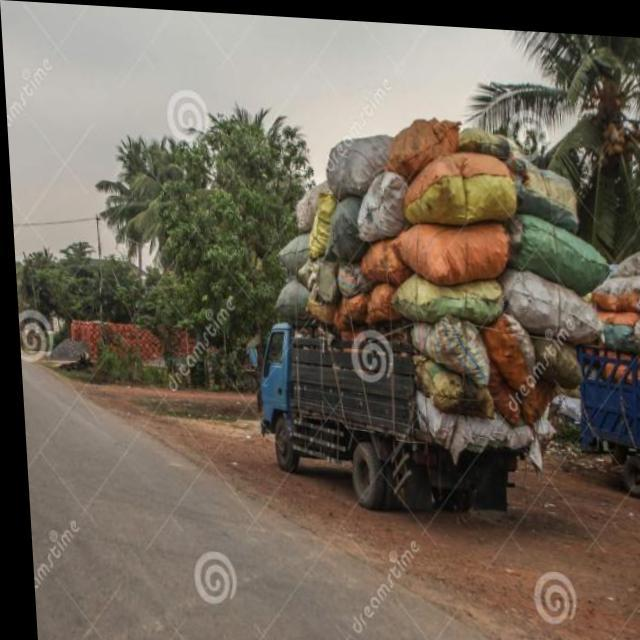uncovered: (252, 100, 611, 460), (605, 200, 640, 386)
